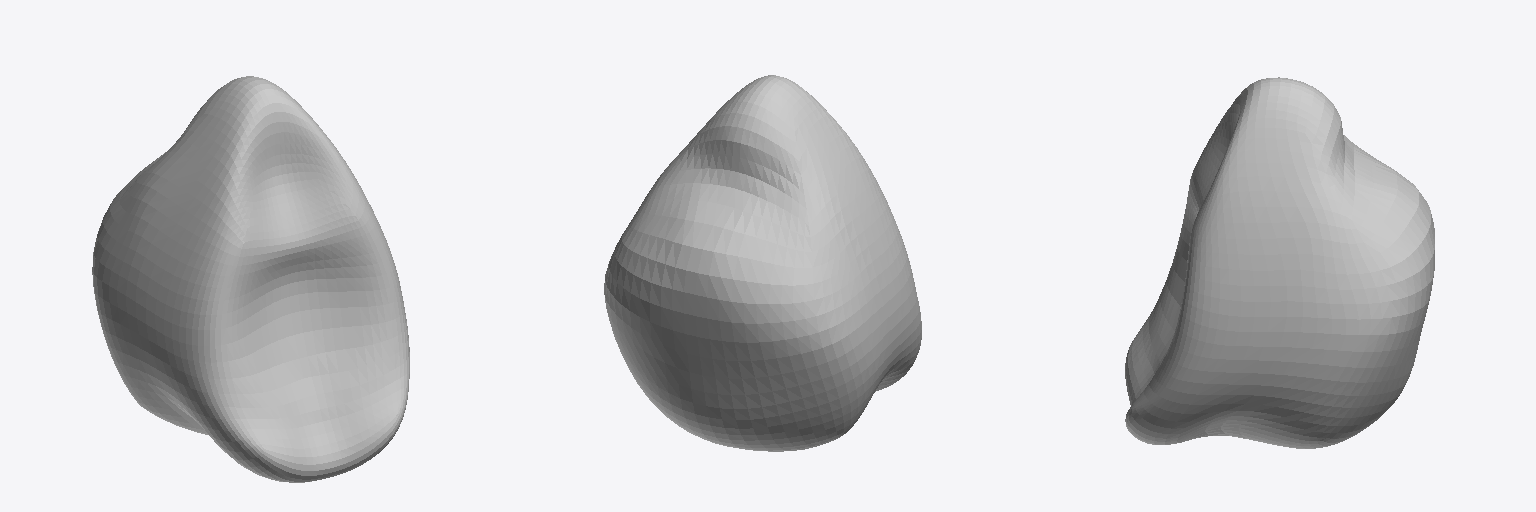
Rendered from vertabrae13.obj.
3 renders of one model, left to right at view 1: azimuth 30°, elevation 25°; view 2: azimuth 150°, elevation 25°; view 3: azimuth 270°, elevation 25°, orthographic.
Parts seen in each view (by area): view 1: Cube.107_Cube.109; view 2: Cube.107_Cube.109; view 3: Cube.107_Cube.109.
Part boxes in pixels (x1,y1,x2,y2): Cube.107_Cube.109: (92, 76, 409, 482); Cube.107_Cube.109: (604, 75, 921, 451); Cube.107_Cube.109: (1125, 77, 1434, 448).
Bounding box in the file's own units: 0.0753 × 0.1023 × 0.0819.